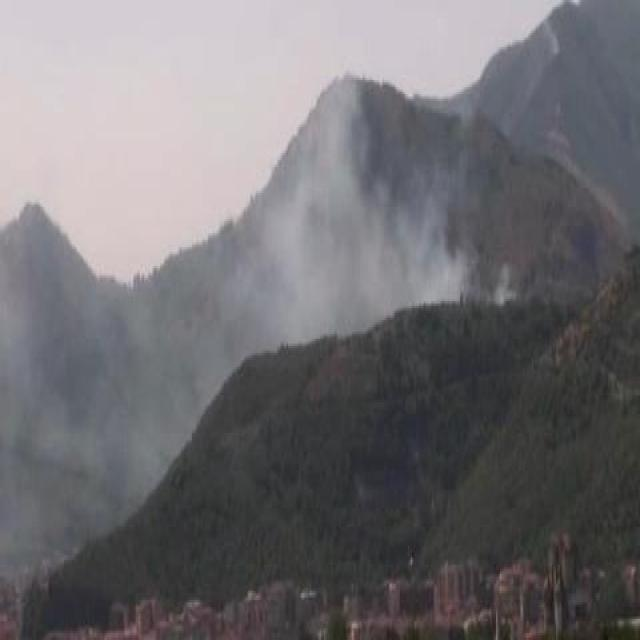Smoke: (239, 82, 466, 327)
